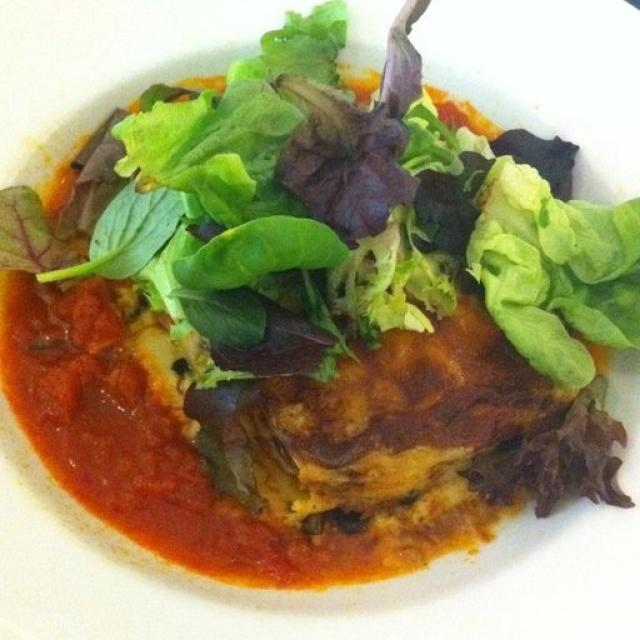Lasagna: (45, 254, 560, 582)
